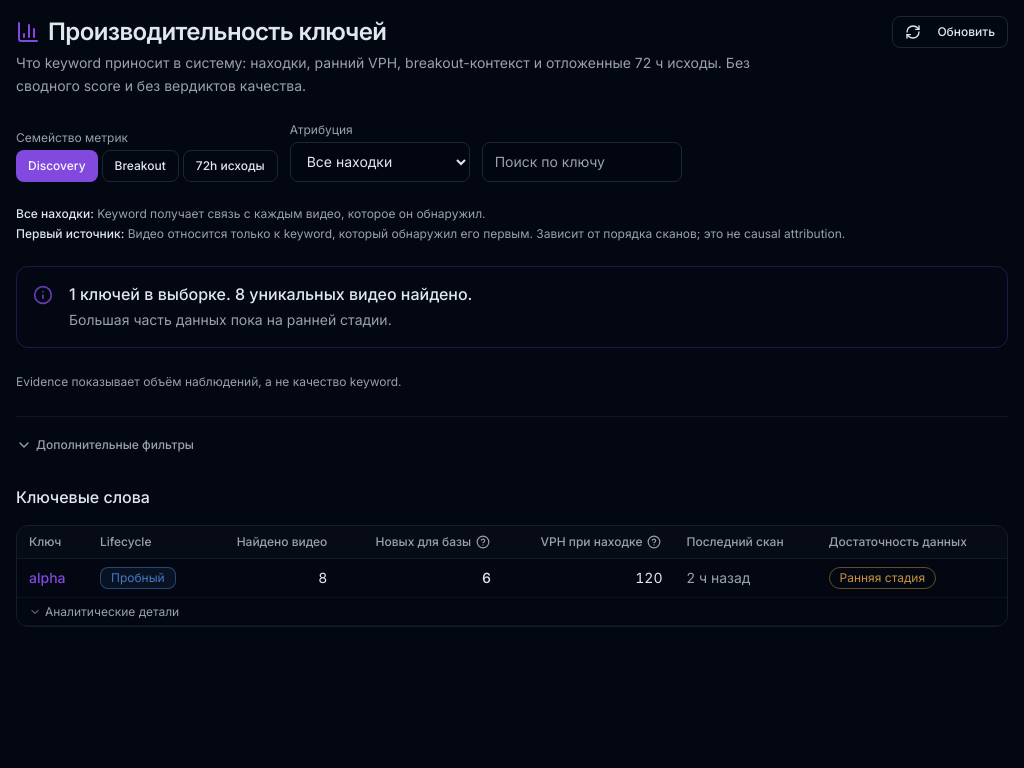
Scenario: KeywordPerformanceDashboard › switching to Breakout requests breakout=true
Expected: the element with test id "discovery-table" is shown, [16,525,1008,627]
Click the button with test id "metric-family-breakout" at (140, 166), box [102,150,179,182]
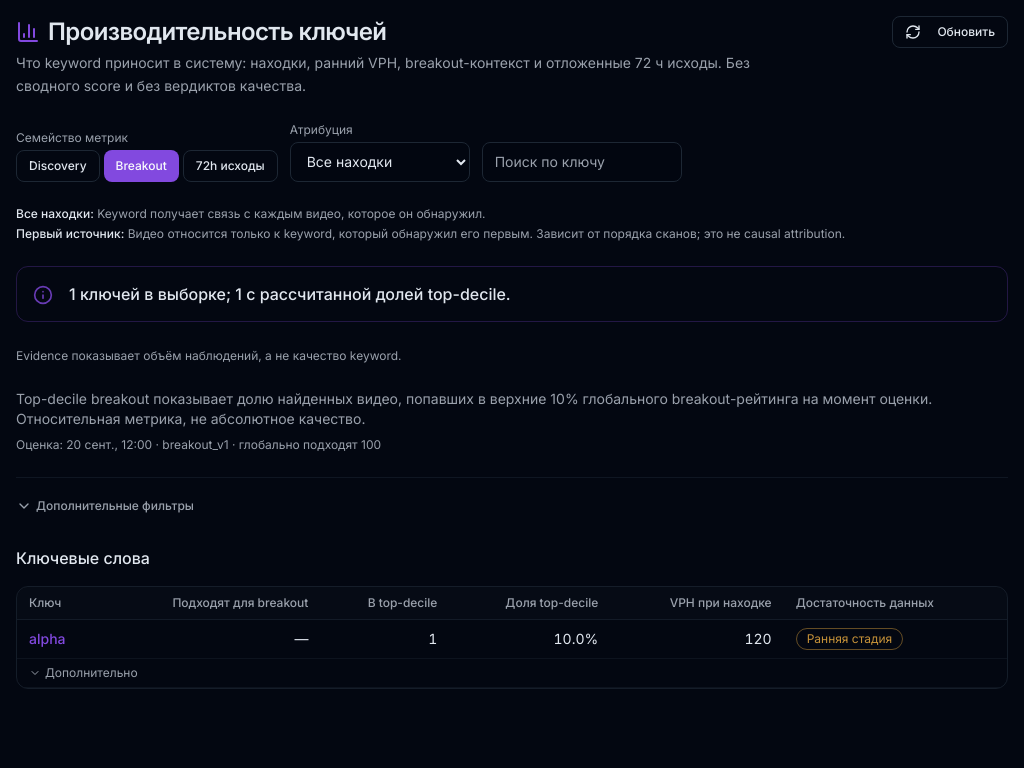
Now the text with test id "breakout-explainer" shows "Top-decile", box [16,390,932,427]
